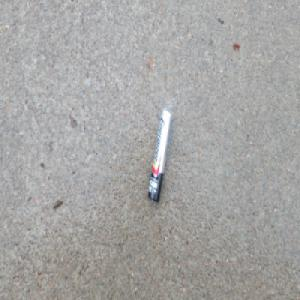Battery: (147, 110, 171, 203)
